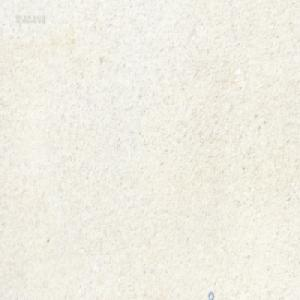Washer: (207, 290, 214, 299)
